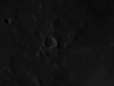crater: (37, 28, 63, 57)
